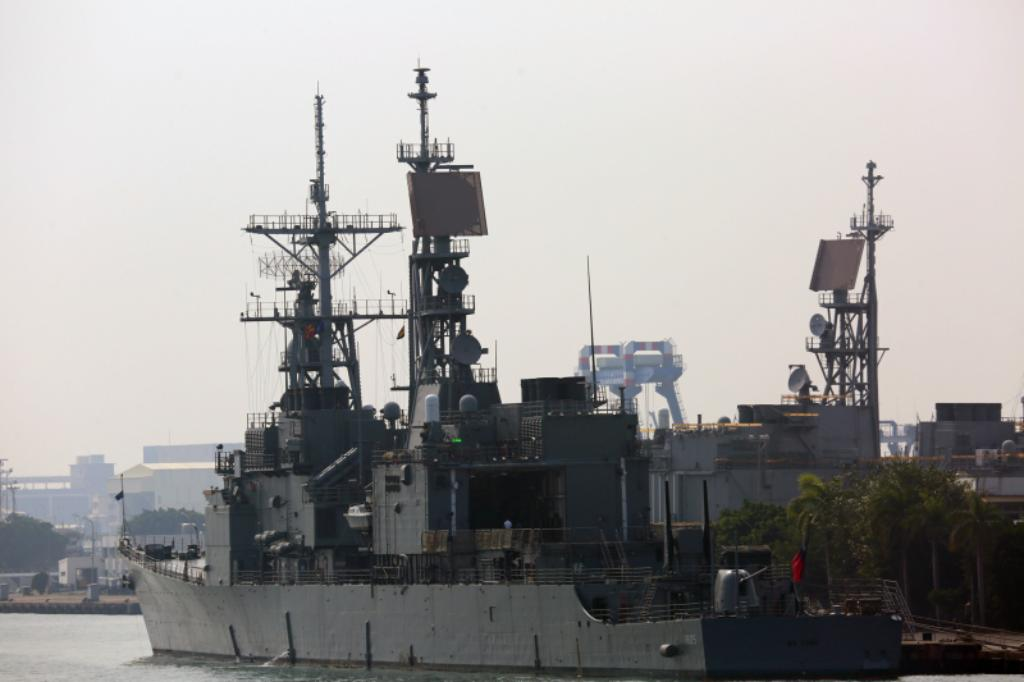Warship: (122, 68, 920, 680)
